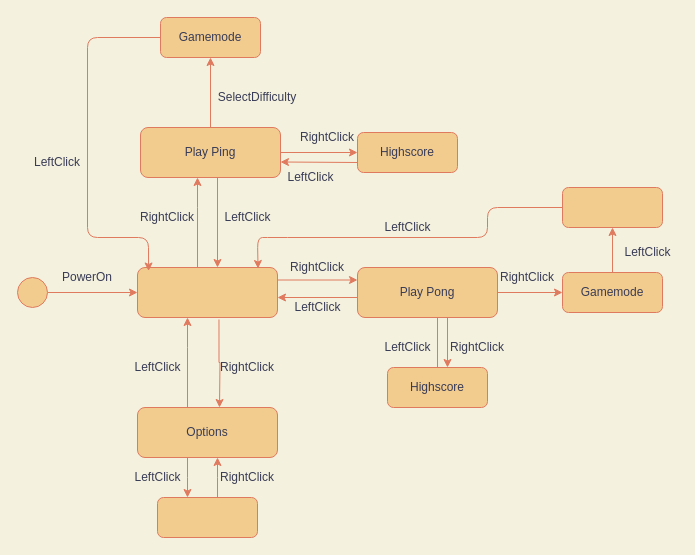
Image size: 695x555. Some labels were removed from this diagram. The shapes that lost their labels are listed below. From the top down, each one's centre as x and y in pixels, then its label:
At point (612, 207): "Show Score".
At point (207, 292): "Main Menu".
At point (207, 517): "Invert Screen".
